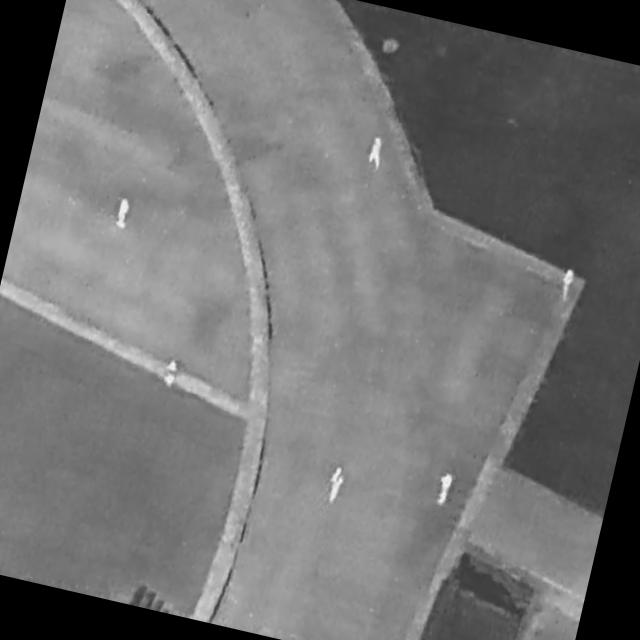person: (323, 461, 349, 508), (361, 133, 389, 174), (433, 468, 458, 507), (558, 263, 578, 304), (113, 195, 134, 231), (160, 356, 182, 390)
